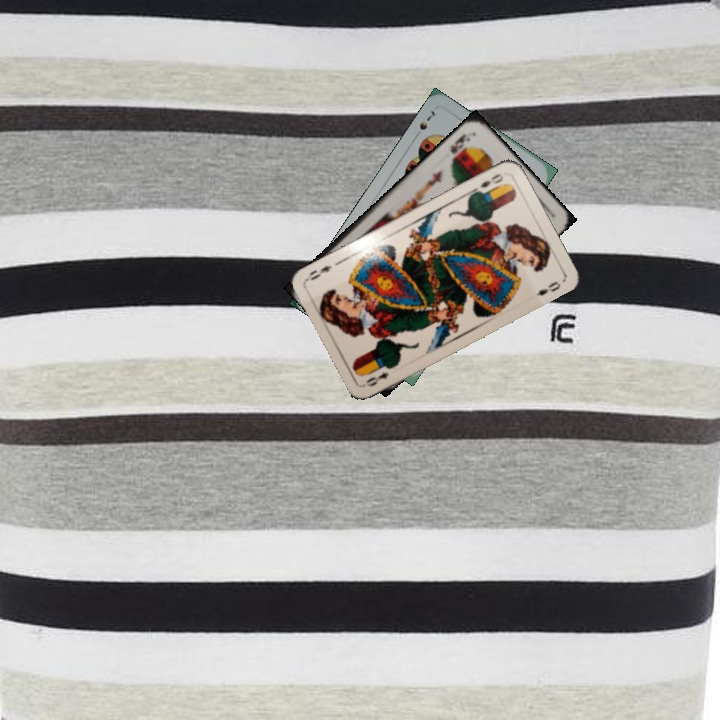EO: (471, 170, 506, 196), (361, 368, 391, 389)
S7: (410, 106, 439, 141)
SK: (446, 129, 473, 157)
